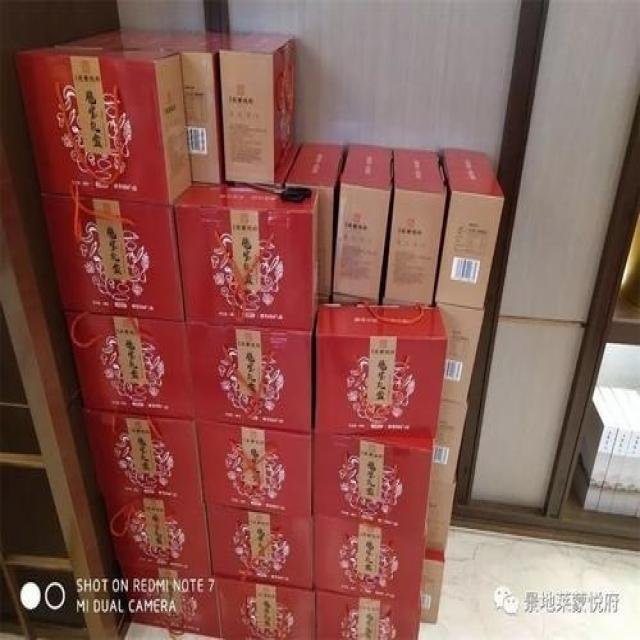box: (54, 26, 250, 184), (17, 46, 191, 205), (173, 183, 319, 329), (42, 193, 186, 321), (314, 302, 448, 439), (63, 312, 195, 420), (186, 321, 314, 432), (312, 433, 434, 532), (434, 148, 506, 311), (219, 32, 296, 184), (84, 406, 204, 503), (195, 420, 314, 517), (380, 148, 448, 307), (329, 145, 393, 305), (283, 143, 346, 302), (314, 517, 426, 606), (204, 503, 315, 589), (100, 493, 212, 573), (118, 561, 221, 637), (214, 575, 316, 638), (572, 386, 617, 512), (315, 589, 421, 640), (436, 304, 484, 404), (596, 386, 632, 515), (611, 387, 640, 517), (429, 399, 467, 485), (424, 481, 454, 561), (420, 563, 444, 626), (274, 143, 302, 188)
